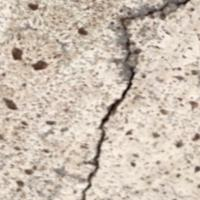crack: (72, 0, 187, 199)
